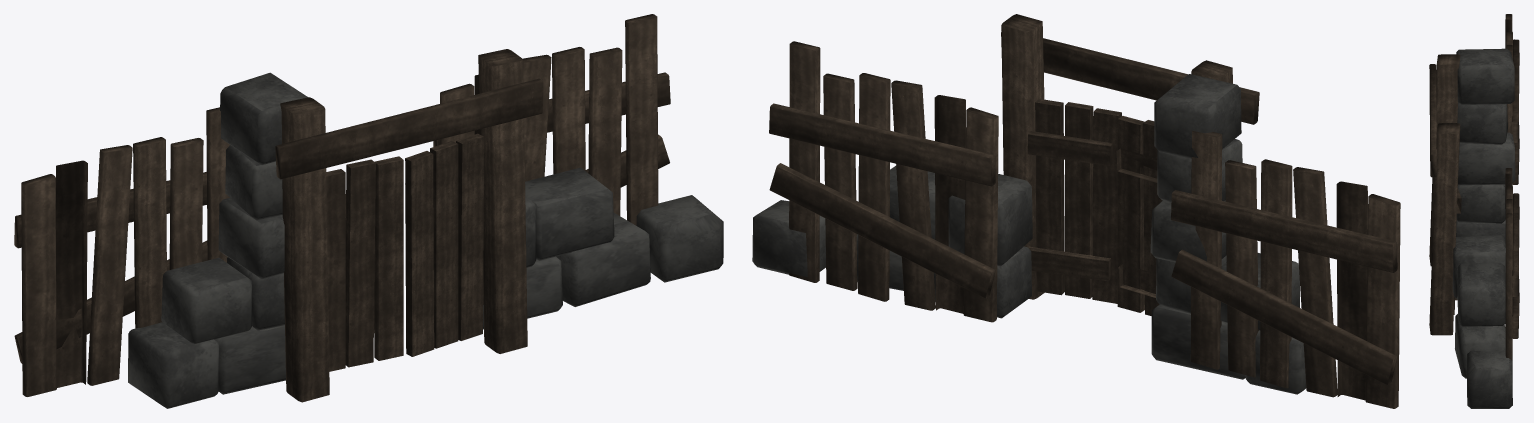
The model's file is gateway.glb.
The picture shows the model from 3 angles, left to right: view 1: azimuth 30°, elevation 25°; view 2: azimuth 150°, elevation 25°; view 3: azimuth 270°, elevation 25°; orthographic projection. The views are drawn at different scales.
Visible parts, largest first — view 1: gateway; view 2: gateway; view 3: gateway.
Part boxes in pixels (box(x1,y1,x2,y2)): gateway: box(14, 14, 723, 408); gateway: box(752, 14, 1400, 408); gateway: box(1429, 14, 1519, 408).
Size of the model in its own units: 22.01 by 8.77 by 3.55.
Materials: 1 (1 with a texture image).
